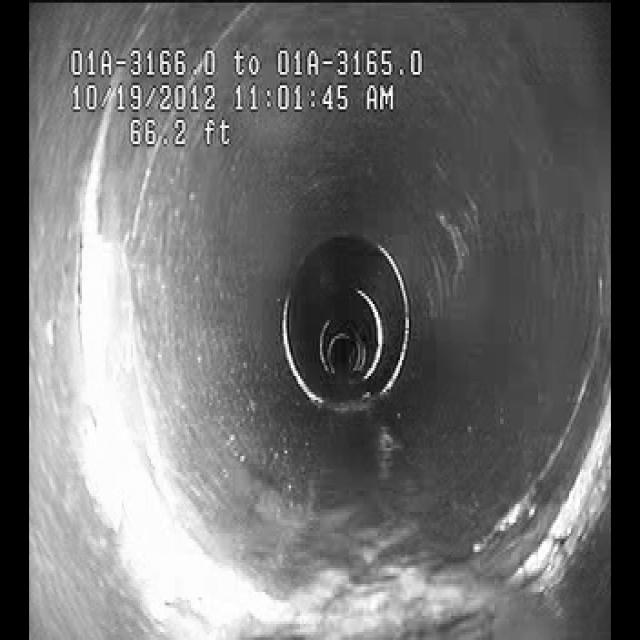Crack: (100, 161, 174, 386)
